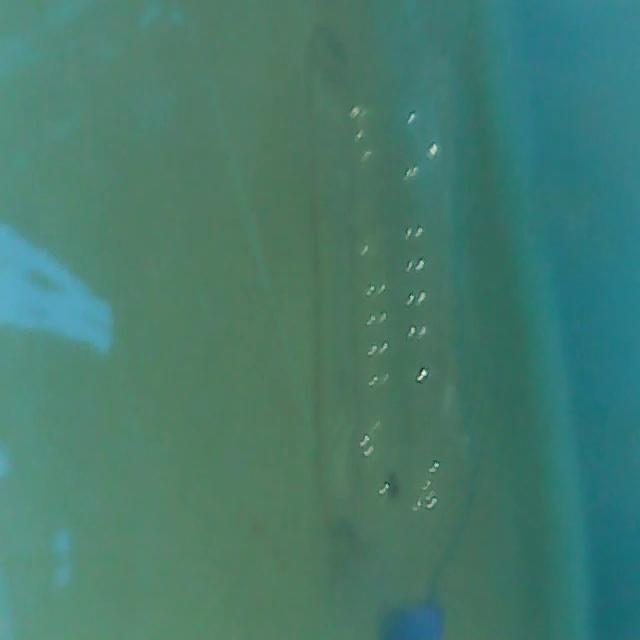plastic bottle: (322, 51, 490, 640)
